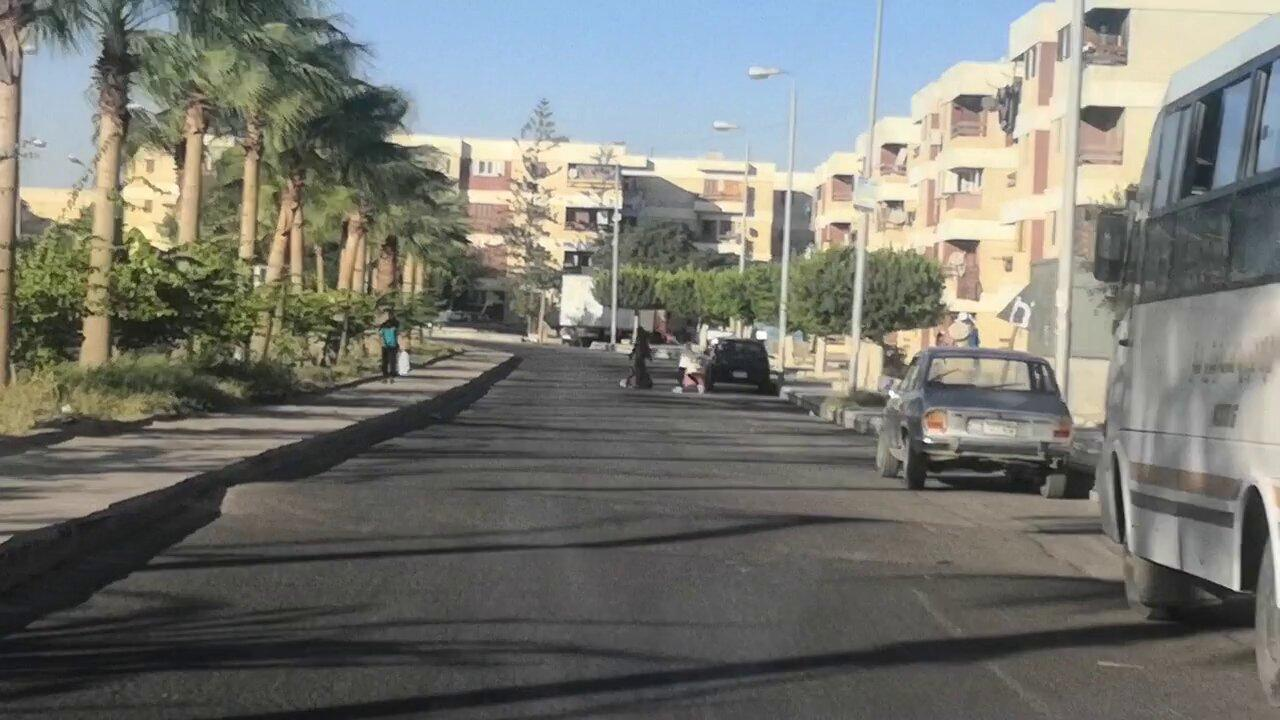Bump: (255, 477, 1120, 583)
